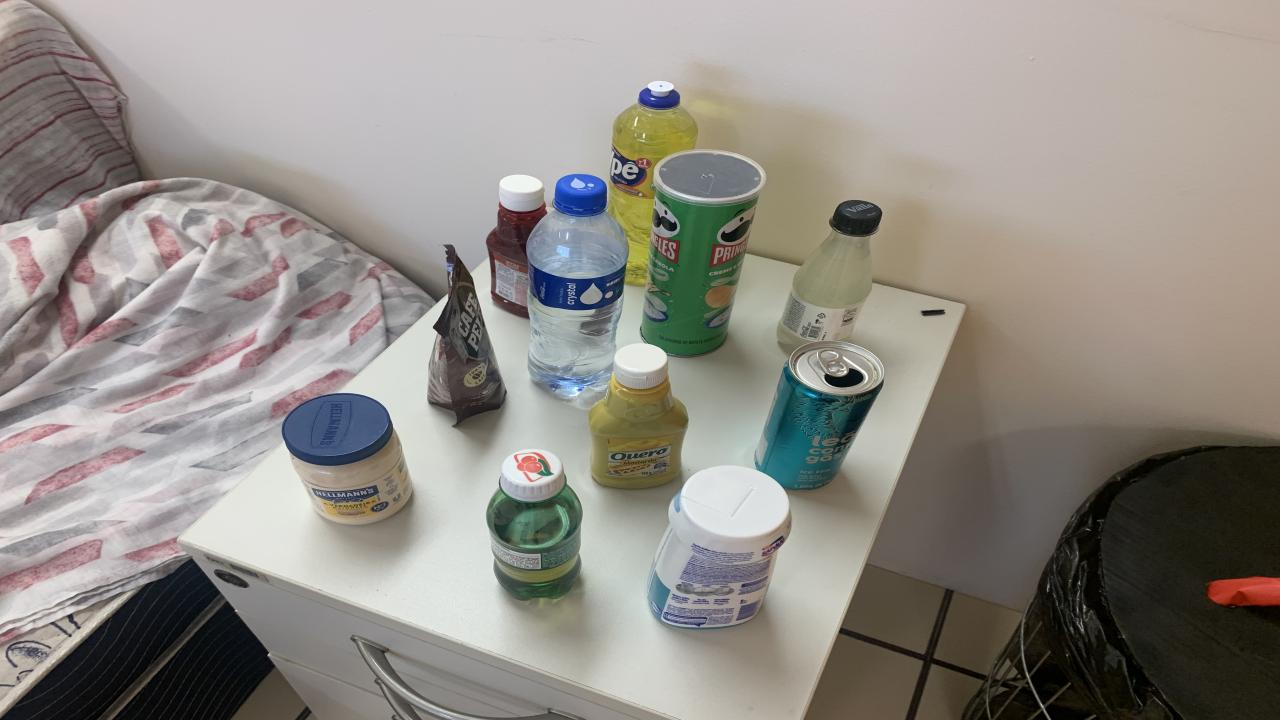Cleaner-Cleanup_Items: (648, 465, 792, 628)
Coffee-Pantry_Items: (428, 246, 505, 422)
Detergent-Cleanup_Items: (610, 81, 698, 285)
Guarana-Drinks: (488, 450, 582, 600)
Ketchup-Pantry_Items: (488, 174, 548, 317)
Mayonnaise-Pantry_Items: (282, 394, 412, 525), (555, 525, 558, 527)
Mustard-Pantry_Items: (590, 343, 688, 489)
Pringles-Snacks: (640, 150, 765, 356)
Soda-Drinks: (778, 199, 882, 352)
Tea-Drinks: (755, 341, 885, 489)
Water_Bottle-Drinks: (528, 174, 628, 401)
